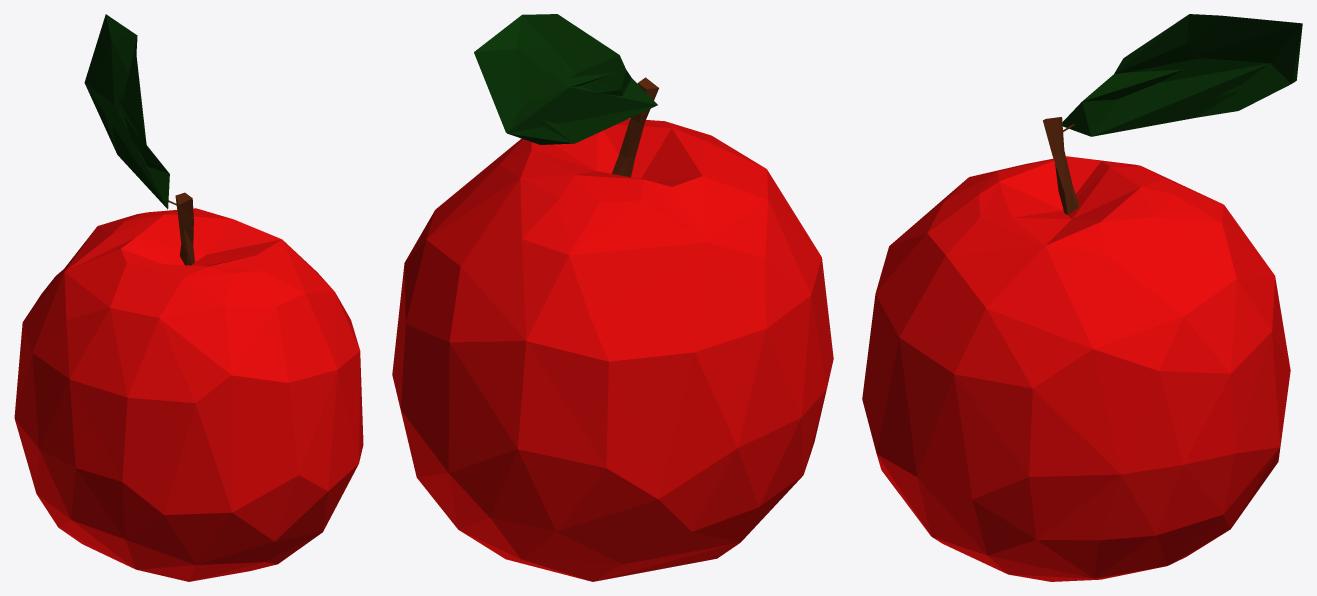
File: apple.gltf
3 renders of one model, left to right at view 1: azimuth 30°, elevation 25°; view 2: azimuth 150°, elevation 25°; view 3: azimuth 270°, elevation 25°, orthographic. The views are drawn at different scales.
Visible parts, largest first — view 1: Apple, Leaf, Trunc; view 2: Apple, Leaf, Trunc; view 3: Apple, Leaf, Trunc.
Boxes of the visible parts, x1=… form: Apple: x1=14, y1=208, x2=363, y2=581; Leaf: x1=84, y1=14, x2=169, y2=209; Trunc: x1=175, y1=192, x2=194, y2=265; Apple: x1=392, y1=118, x2=833, y2=581; Leaf: x1=474, y1=14, x2=657, y2=144; Trunc: x1=611, y1=77, x2=658, y2=177; Apple: x1=862, y1=156, x2=1290, y2=581; Leaf: x1=1062, y1=14, x2=1302, y2=136; Trunc: x1=1043, y1=117, x2=1079, y2=214.
Bounding box in the file's own units: 2.4 × 3.65 × 2.64.
